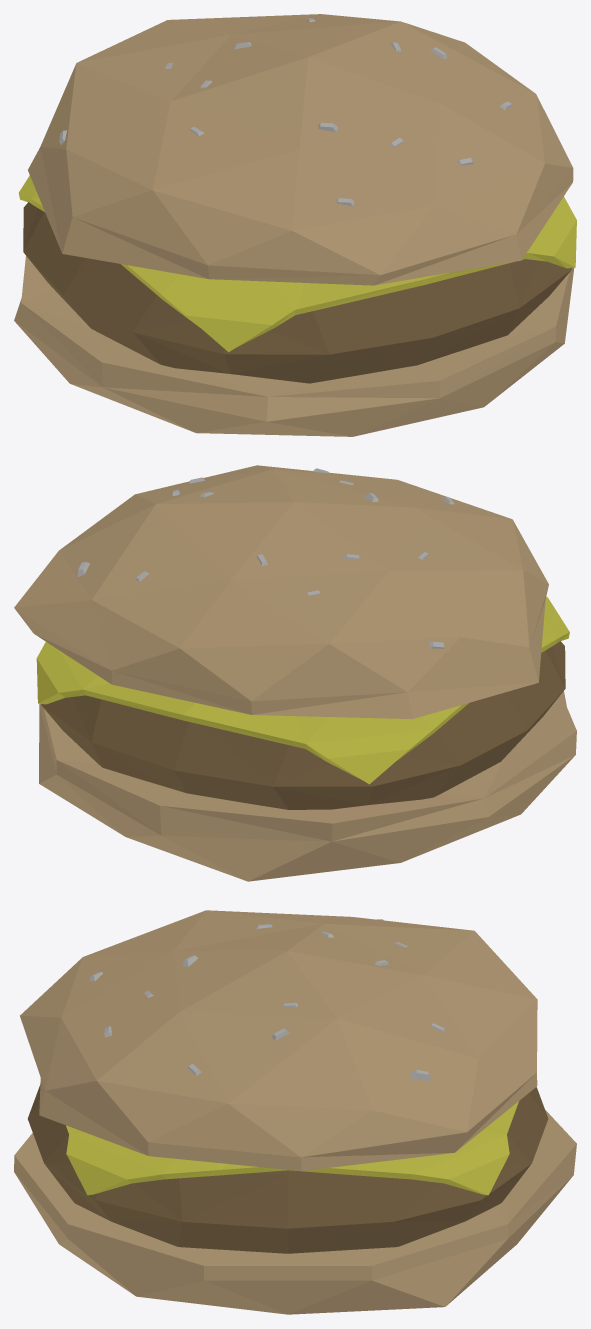
The model's file is Cheeseburger.glb.
3 renders of one model, top to bottom at view 1: azimuth 30°, elevation 25°; view 2: azimuth 150°, elevation 25°; view 3: azimuth 270°, elevation 25°, orthographic. The views are drawn at different scales.
Parts seen in each view (by area): view 1: Cheeseburger; view 2: Cheeseburger; view 3: Cheeseburger.
Boxes of the visible parts, x1,y1,x2,y2 form: Cheeseburger: [14, 14, 576, 436]; Cheeseburger: [14, 465, 576, 881]; Cheeseburger: [14, 910, 576, 1314].
Bounding box in the file's own units: 1.46 × 0.9382 × 1.54.
